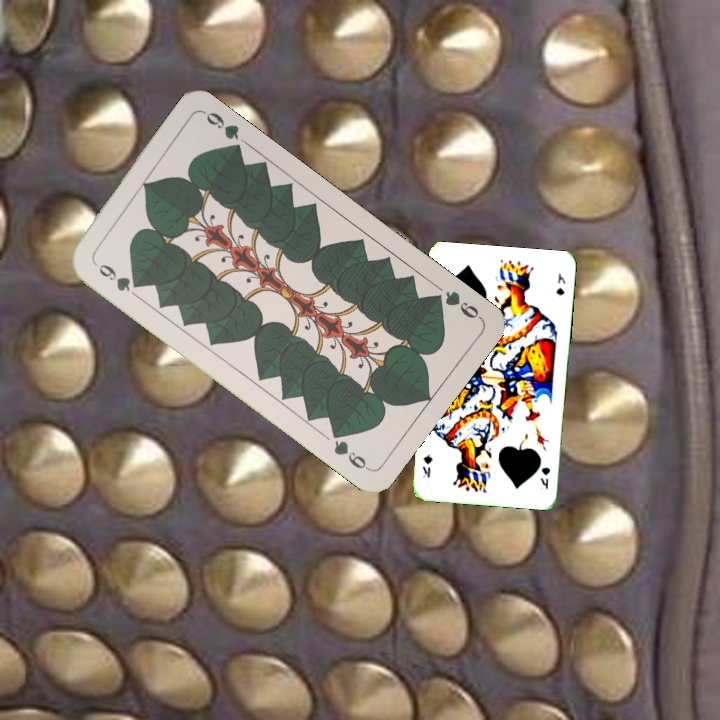G9: (426, 286, 484, 322), (94, 260, 144, 295)
GK: (537, 463, 553, 491)
